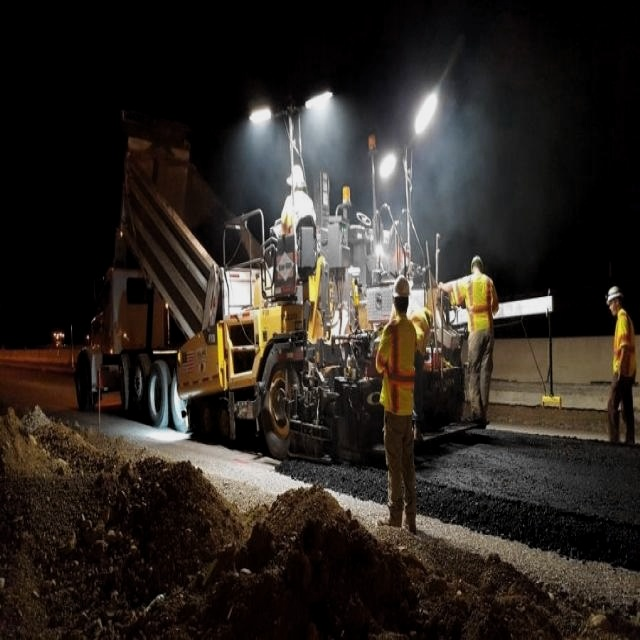Con_Casco: (392, 274, 412, 315)
Con_Chaleco: (382, 319, 417, 415), (467, 272, 498, 340), (612, 311, 636, 393)
